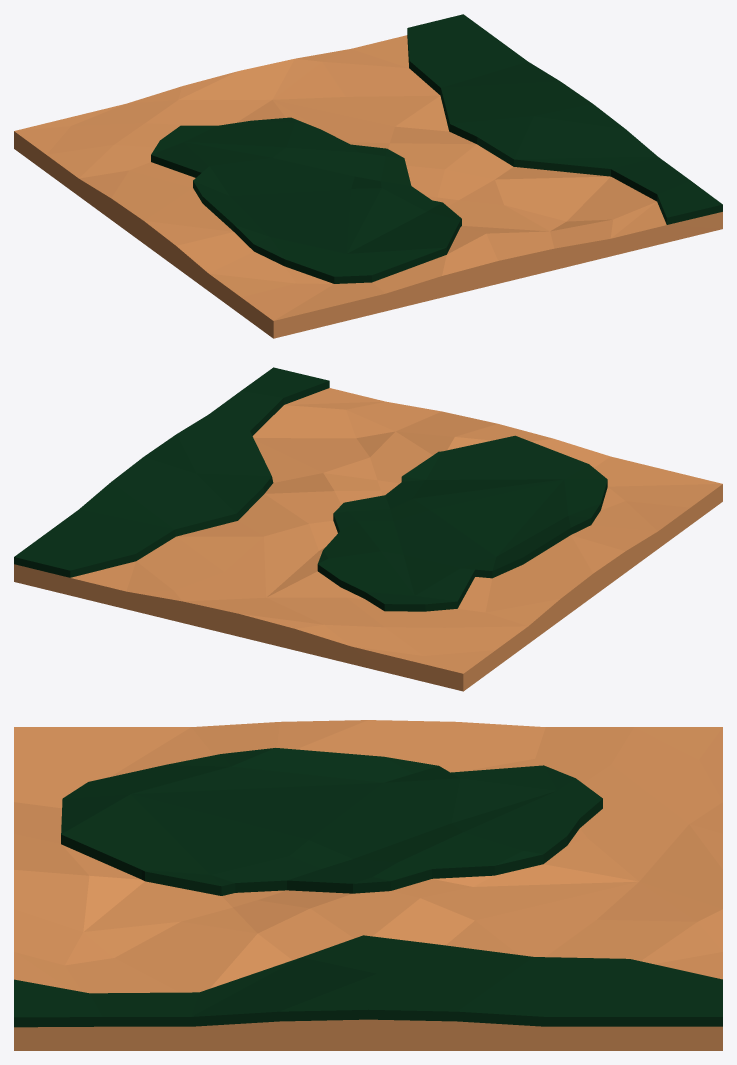
File: Road_green_5.FBX
3 views of the same model, one above another, from view 1: azimuth 30°, elevation 25°; view 2: azimuth 150°, elevation 25°; view 3: azimuth 270°, elevation 25° (orthographic). The views are drawn at different scales.
Visible parts, largest first — view 1: Road_green_5; view 2: Road_green_5; view 3: Road_green_5.
Boxes of the visible parts, x1,y1,x2,y2 form: Road_green_5: (14,14,722,338); Road_green_5: (14,367,722,691); Road_green_5: (14,720,722,1050).
Size of the model in its own units: 1.5 by 0.1024 by 1.5.
Materials: 1 (1 with a texture image).
